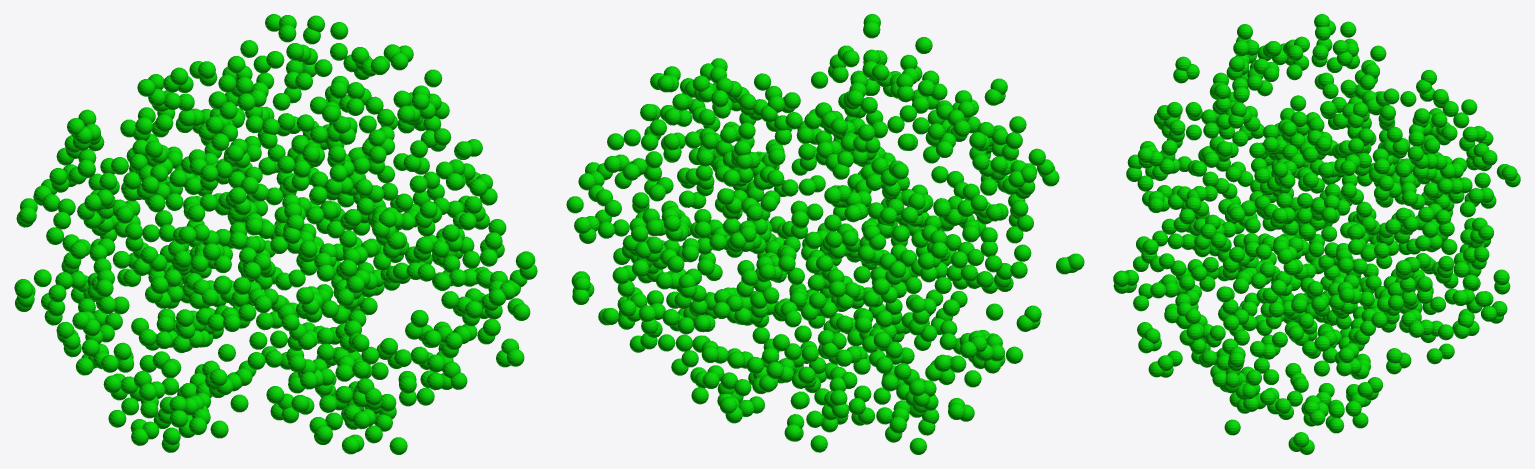
The model's file is 4hhb__spheres__secondary-structure__H.glb.
3 views of the same model, side by side, from view 1: azimuth 30°, elevation 25°; view 2: azimuth 150°, elevation 25°; view 3: azimuth 270°, elevation 25° (orthographic). The views are drawn at different scales.
Visible parts, largest first — view 1: Renderer Node; view 2: Renderer Node; view 3: Renderer Node.
Boxes of the visible parts, box(x1,y1,x2,y2) form: Renderer Node: box(14, 14, 537, 454); Renderer Node: box(566, 14, 1084, 454); Renderer Node: box(1113, 14, 1520, 454).
Bounding box in the file's own units: 71.19 × 60.02 × 61.02.
